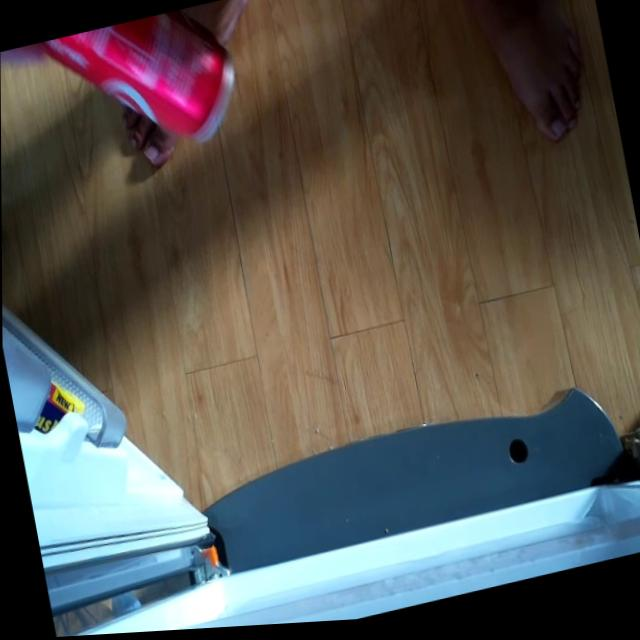coke: (8, 3, 237, 183)
